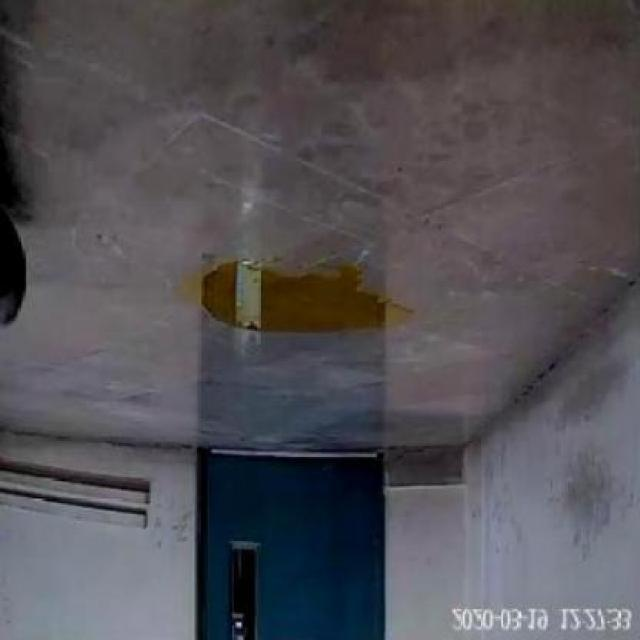spillage: (200, 259, 413, 332)
